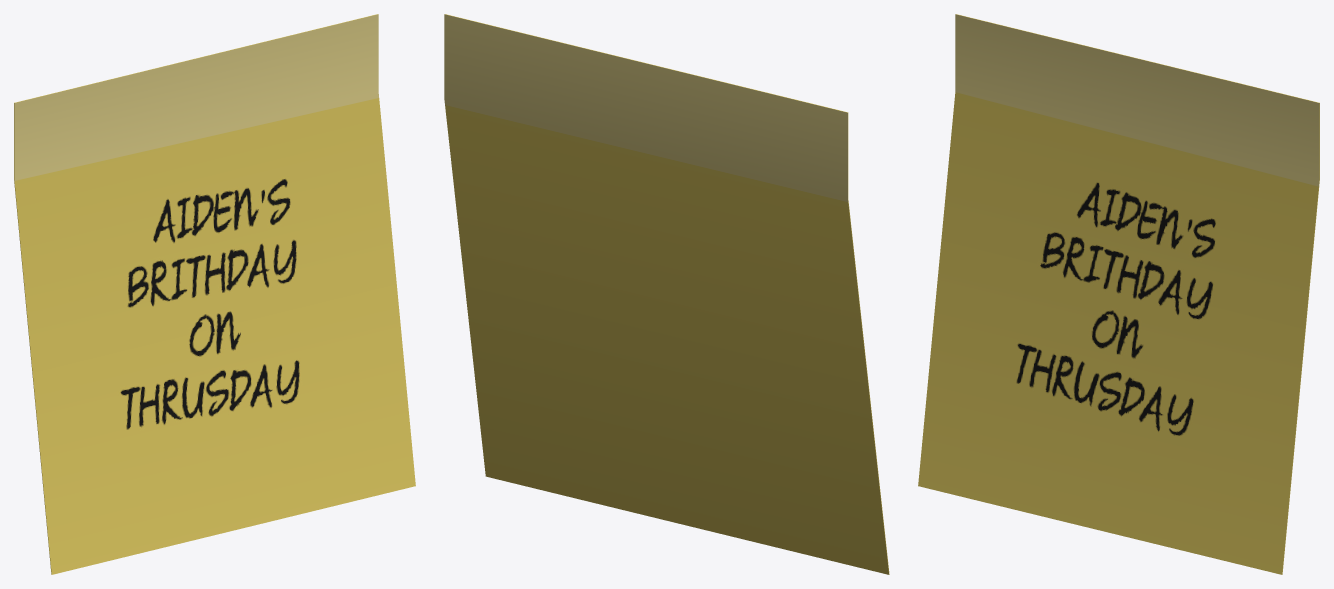
Rendered from sticky note.fbx.
3 views of the same model, side by side, from view 1: azimuth 30°, elevation 25°; view 2: azimuth 150°, elevation 25°; view 3: azimuth 330°, elevation 25° (orthographic). The views are drawn at different scales.
Parts seen in each view (by area): view 1: note002; view 2: note002; view 3: note002.
Part boxes in pixels (bbox=[...]): note002: bbox=[14, 14, 415, 574]; note002: bbox=[444, 14, 889, 574]; note002: bbox=[918, 14, 1319, 574].
Size of the model in its own units: 23.62 by 27.56 by 4.23.
